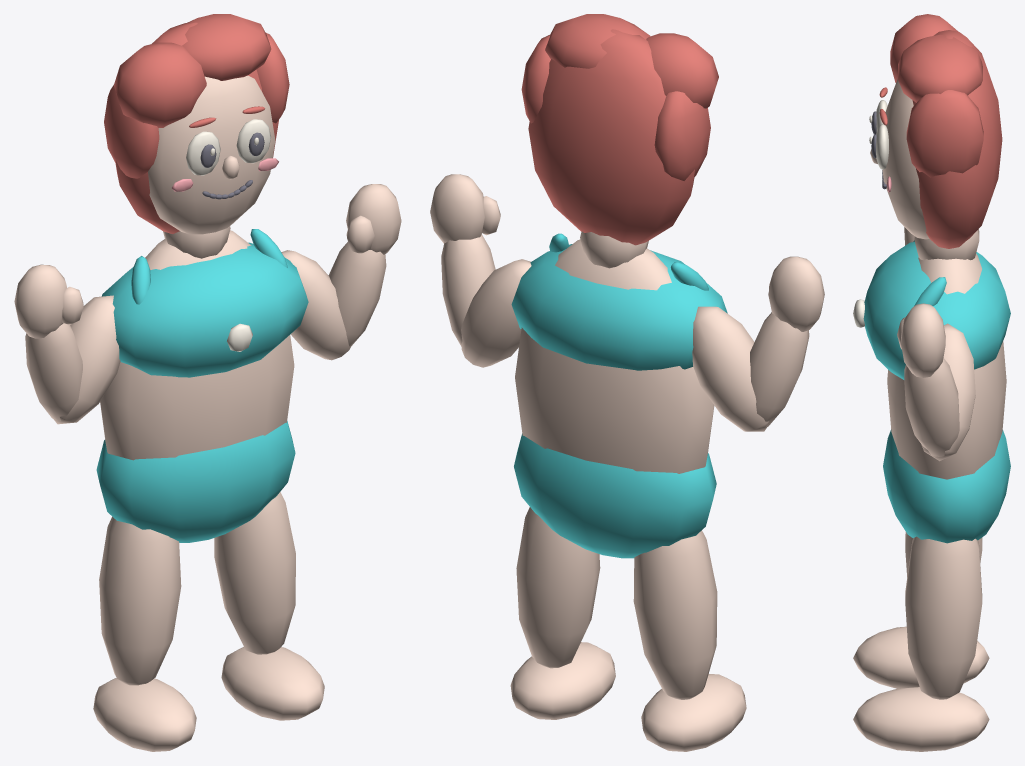
The model's file is pool-doll.glb.
The picture shows the model from 3 angles, left to right: view 1: azimuth 30°, elevation 25°; view 2: azimuth 150°, elevation 25°; view 3: azimuth 270°, elevation 25°; orthographic projection. The views are drawn at different scales.
Parts seen in each view (by area): view 1: Pool_Mascot_Bikini; view 2: Pool_Mascot_Bikini; view 3: Pool_Mascot_Bikini.
Boxes of the visible parts, bbox=[...] form: Pool_Mascot_Bikini: bbox=[14, 14, 401, 751]; Pool_Mascot_Bikini: bbox=[430, 14, 824, 751]; Pool_Mascot_Bikini: bbox=[853, 14, 1010, 751].
Size of the model in its own units: 1.02 by 1.76 by 0.37.
